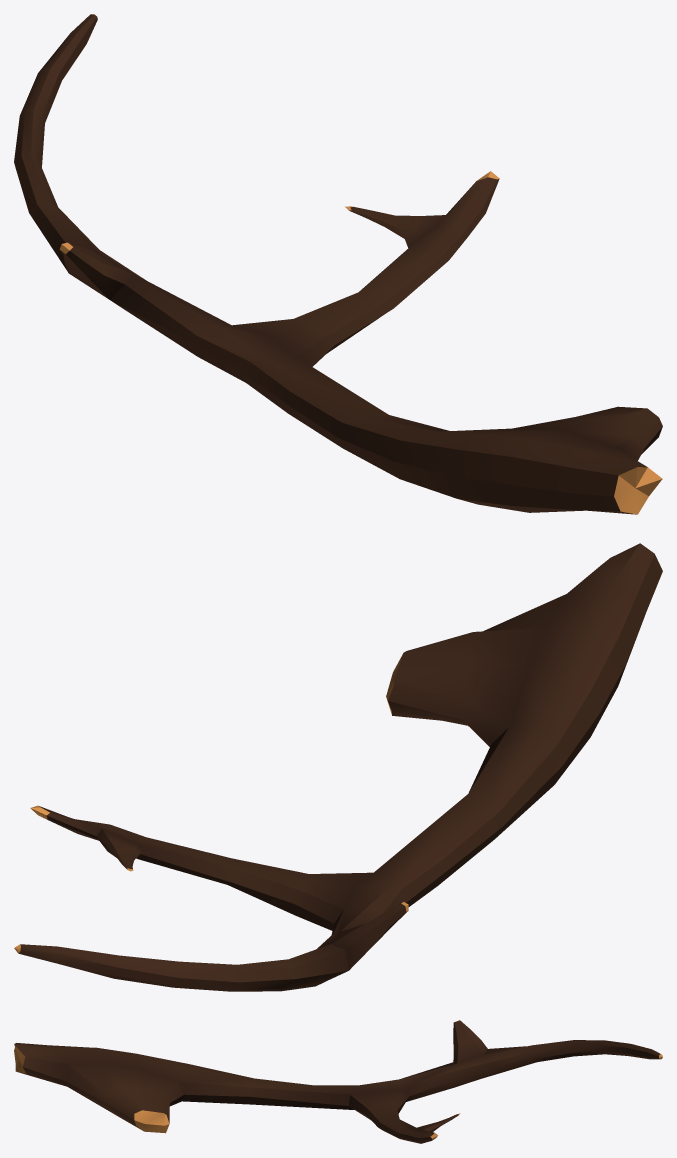
File: Branch3.fbx
3 renders of one model, top to bottom at view 1: azimuth 30°, elevation 25°; view 2: azimuth 150°, elevation 25°; view 3: azimuth 270°, elevation 25°, orthographic. The views are drawn at different scales.
Parts seen in each view (by area): view 1: Branch3; view 2: Branch3; view 3: Branch3.
Boxes of the visible parts, box(x1,y1,x2,y2) form: Branch3: box(14, 14, 662, 514); Branch3: box(14, 543, 662, 991); Branch3: box(14, 1020, 662, 1143).
Bounding box in the file's own units: 505 × 173 × 1259.
